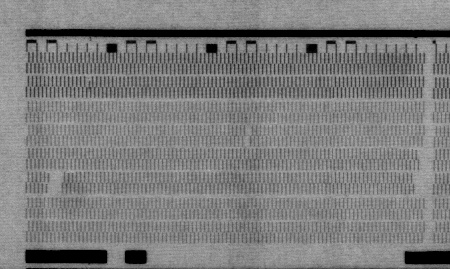Broken hole: (45, 171, 65, 195), (411, 170, 428, 195), (415, 147, 429, 168), (242, 125, 254, 149)
Oblique printing: (83, 75, 95, 91)
